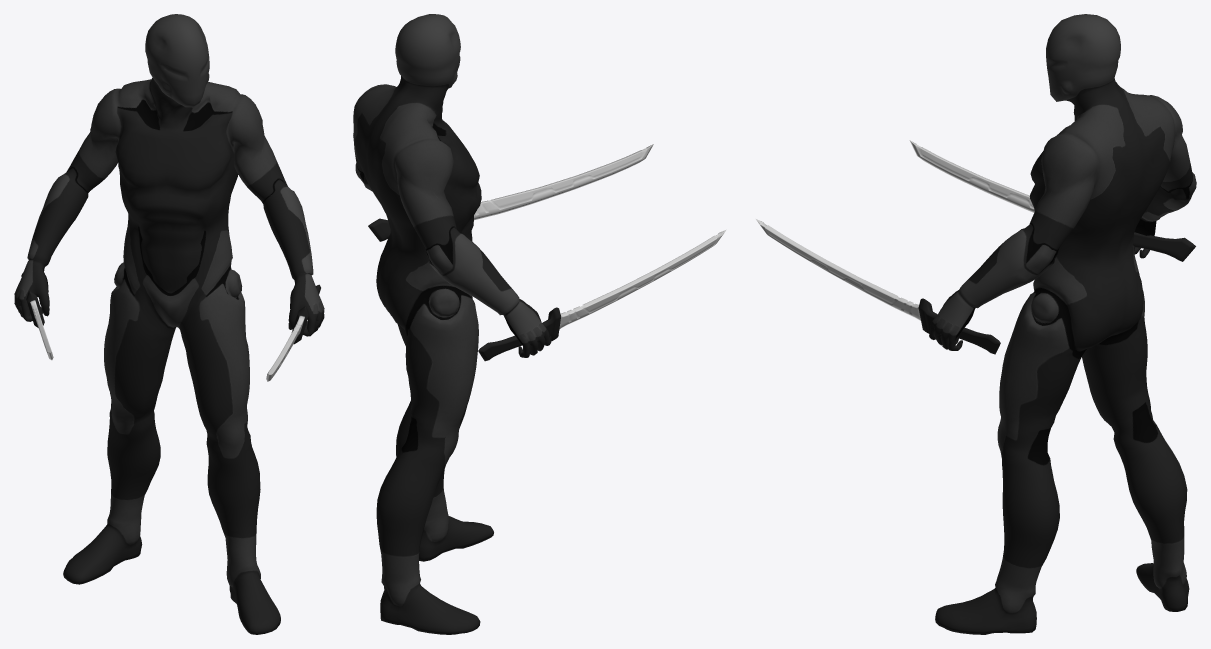
3 renders of one model, left to right at view 1: azimuth 30°, elevation 25°; view 2: azimuth 150°, elevation 25°; view 3: azimuth 270°, elevation 25°, orthographic. The views are drawn at different scales.
Parts seen in each view (by area): view 1: Cyborg_Ninja_Killer, Sword_l, Sword_l001; view 2: Cyborg_Ninja_Killer, Sword_l001, Sword_l; view 3: Cyborg_Ninja_Killer, Sword_l, Sword_l001.
Boxes of the visible parts, bbox=[...] form: Cyborg_Ninja_Killer: bbox=[14, 14, 324, 634]; Sword_l: bbox=[266, 284, 320, 381]; Sword_l001: bbox=[21, 272, 53, 360]; Cyborg_Ninja_Killer: bbox=[353, 14, 551, 634]; Sword_l001: bbox=[478, 229, 726, 361]; Sword_l: bbox=[368, 144, 653, 241]; Cyborg_Ninja_Killer: bbox=[929, 14, 1196, 634]; Sword_l: bbox=[756, 219, 1000, 354]; Sword_l001: bbox=[909, 140, 1195, 261].
Bounding box in the file's own units: 105 × 182 × 123.
Materials: 2 (2 with a texture image).
